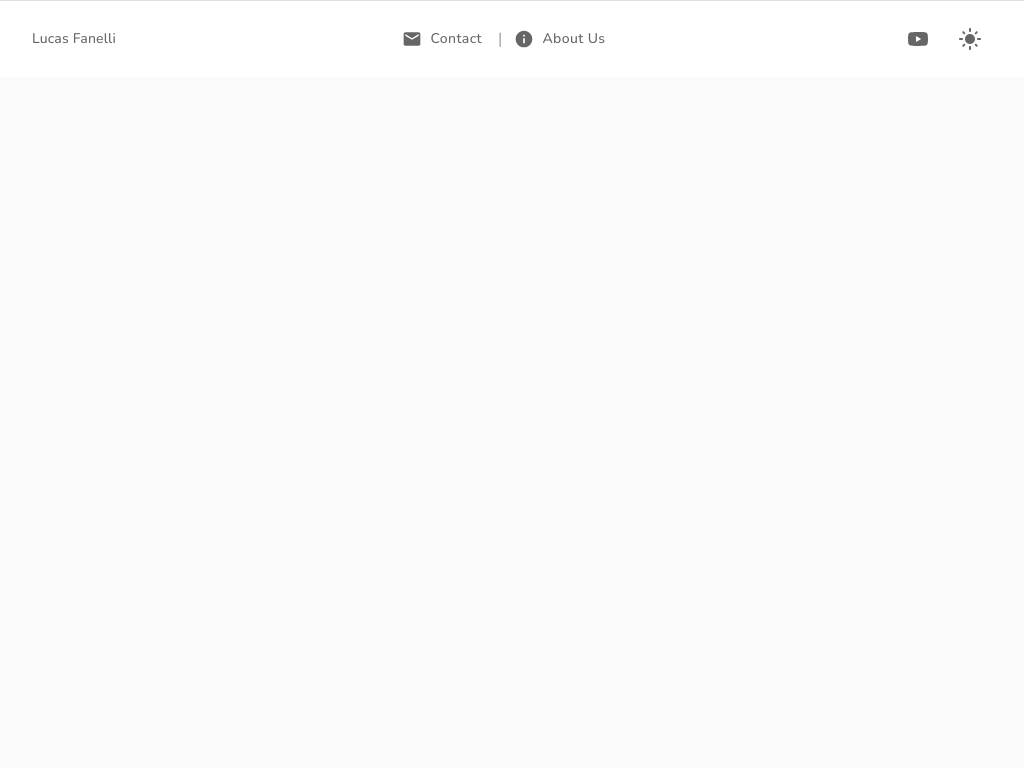
Scenario: Footer Component › Contact Dialog › should open contact dialog when Contact button is clicked
The image size is (1024, 768).
Click the button "Contact": coordinates (444, 39) [398, 17, 490, 61]
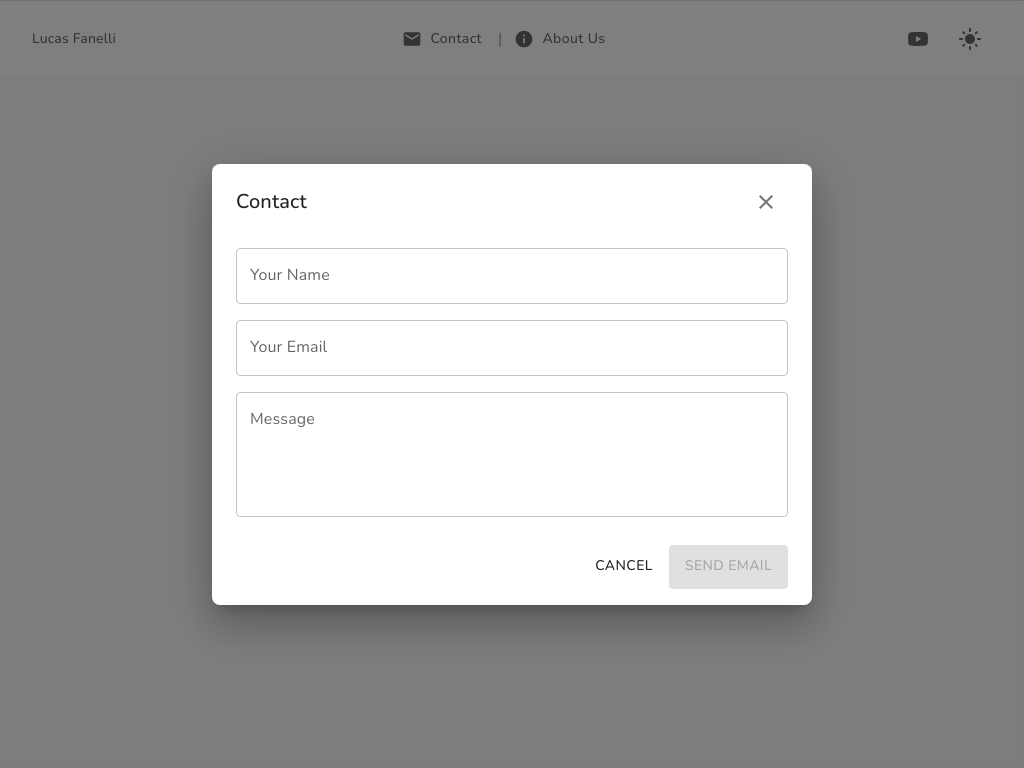
expect the dialog is shown: met, box [212, 164, 812, 604]
expect the field labelled "Your Name" is shown: met, box [236, 248, 788, 304]
expect the field labelled "Your Email" is shown: met, box [236, 320, 788, 376]
